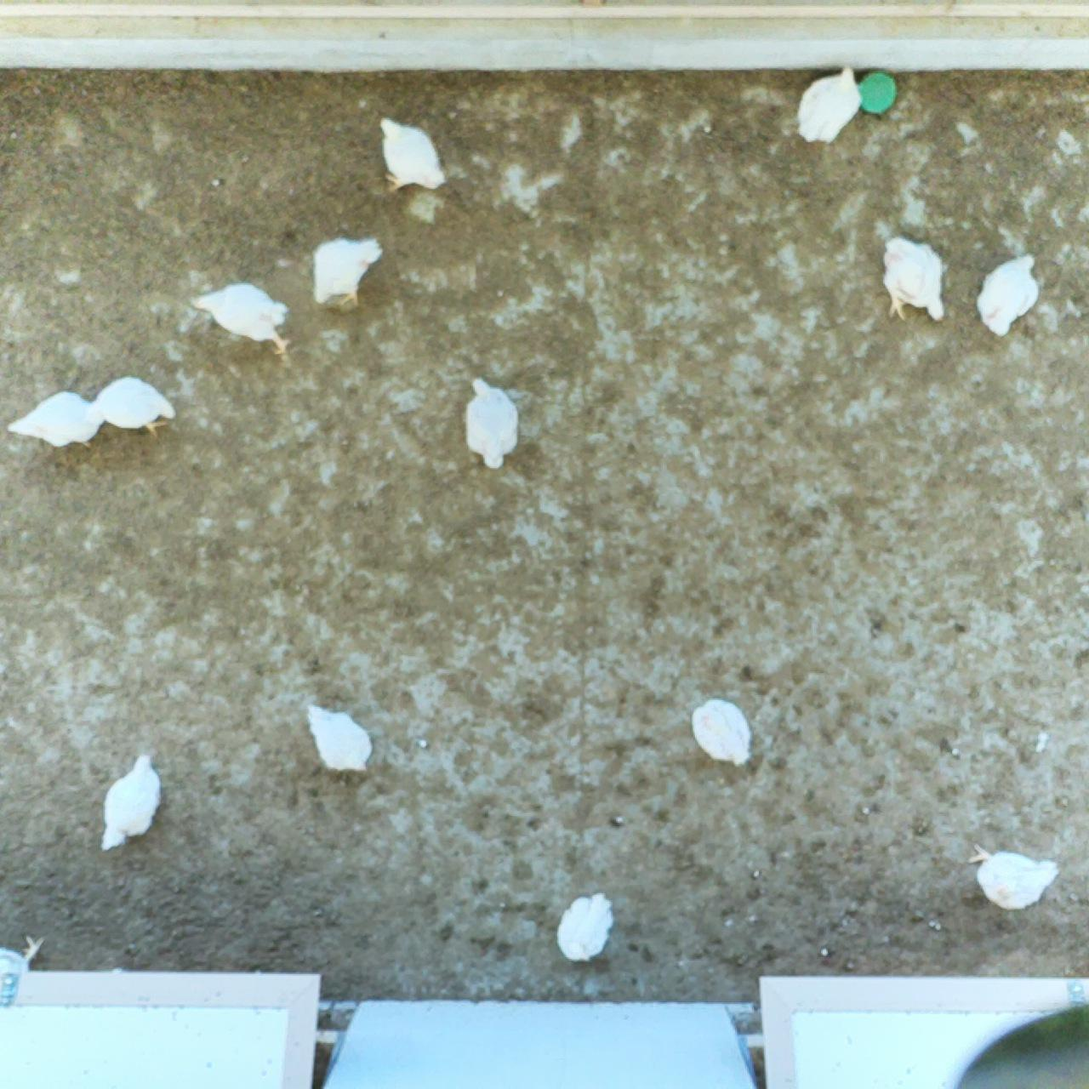chicken: (188, 278, 294, 358), (966, 843, 1064, 914), (875, 232, 949, 326), (95, 753, 164, 853), (79, 373, 176, 439), (7, 388, 110, 450), (310, 232, 385, 313), (375, 113, 450, 194), (463, 376, 524, 472), (977, 250, 1043, 338), (797, 63, 866, 146), (300, 702, 373, 777), (687, 694, 754, 775), (554, 890, 617, 966), (0, 934, 44, 1008)
